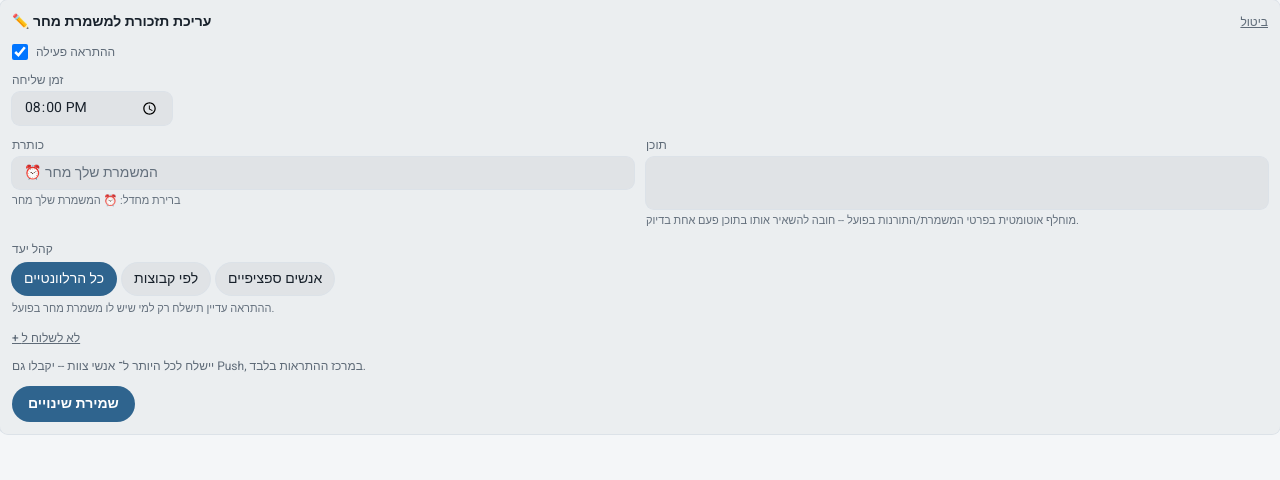
ManagerSystemRuleEditor -- accessible status announcements and field validation › an invalid_title server error marks the title field invalid
The image size is (1280, 480).
What coordinates should you click on to do the following:
click the button "שמירת שינויים"
I would click on:
 (73, 404)
Its box is [12,386,135,422].
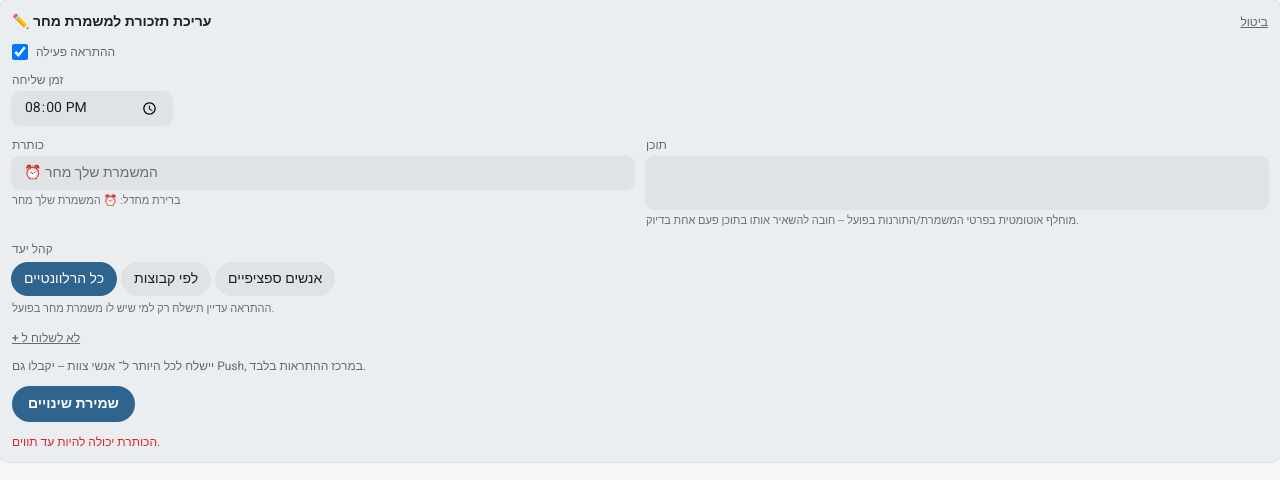
Expected: the message "הכותרת יכולה להיות עד תווים." is shown, [12,433,160,451]
